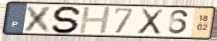6: (168, 9, 190, 36)
7: (113, 7, 136, 35)
H: (78, 6, 114, 35)
S: (50, 5, 84, 34)
X: (22, 5, 56, 34), (136, 8, 166, 36)
